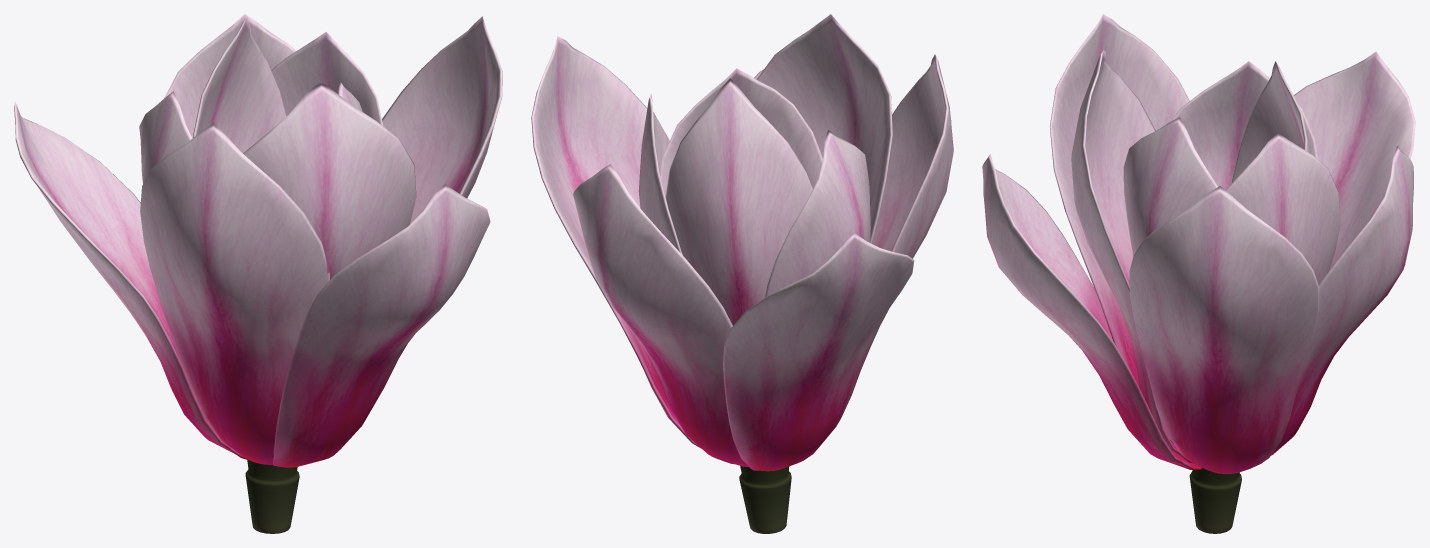
3 views of the same model, side by side, from view 1: azimuth 30°, elevation 25°; view 2: azimuth 150°, elevation 25°; view 3: azimuth 270°, elevation 25° (orthographic). The views are drawn at different scales.
Parts seen in each view (by area): view 1: Magnolia_Flower_convert.002; view 2: Magnolia_Flower_convert.002; view 3: Magnolia_Flower_convert.002.
Boxes of the visible parts, x1=… form: Magnolia_Flower_convert.002: x1=14, y1=14, x2=502, y2=533; Magnolia_Flower_convert.002: x1=531, y1=14, x2=953, y2=533; Magnolia_Flower_convert.002: x1=982, y1=14, x2=1415, y2=533.
Size of the model in its own units: 0.4392 by 0.5 by 0.4149.
Materials: 2 (2 with a texture image).
